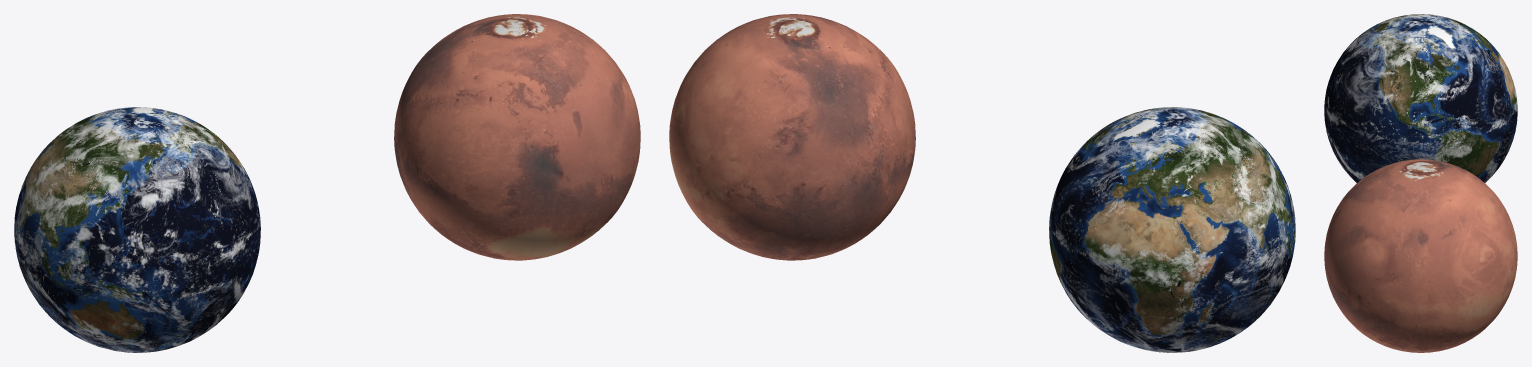
The model's file is Mars_Earth.glb.
3 renders of one model, left to right at view 1: azimuth 30°, elevation 25°; view 2: azimuth 150°, elevation 25°; view 3: azimuth 270°, elevation 25°, orthographic. The views are drawn at different scales.
Visible parts, largest first — view 1: Mars, Earth; view 2: Mars, Earth; view 3: Mars, Earth.
Boxes of the visible parts, <box> form: Mars: <box>394,14,640,260</box>; Earth: <box>14,107,260,352</box>; Mars: <box>669,14,915,260</box>; Earth: <box>1049,107,1295,352</box>; Mars: <box>1324,159,1517,352</box>; Earth: <box>1324,14,1517,182</box>.
Size of the model in its own units: 18.74 by 6.74 by 6.74.
Materials: 2 (2 with a texture image).
